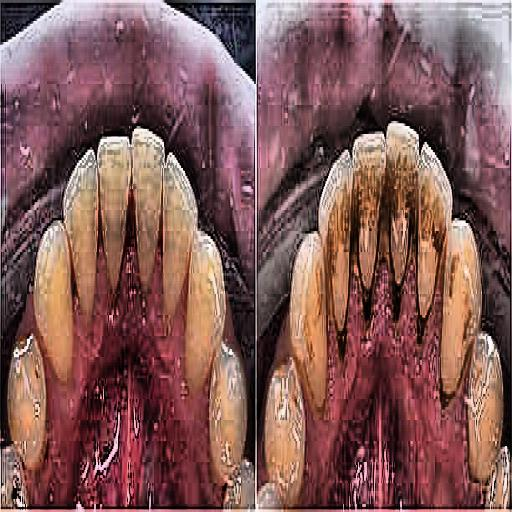Calculus: (296, 95, 489, 504)
